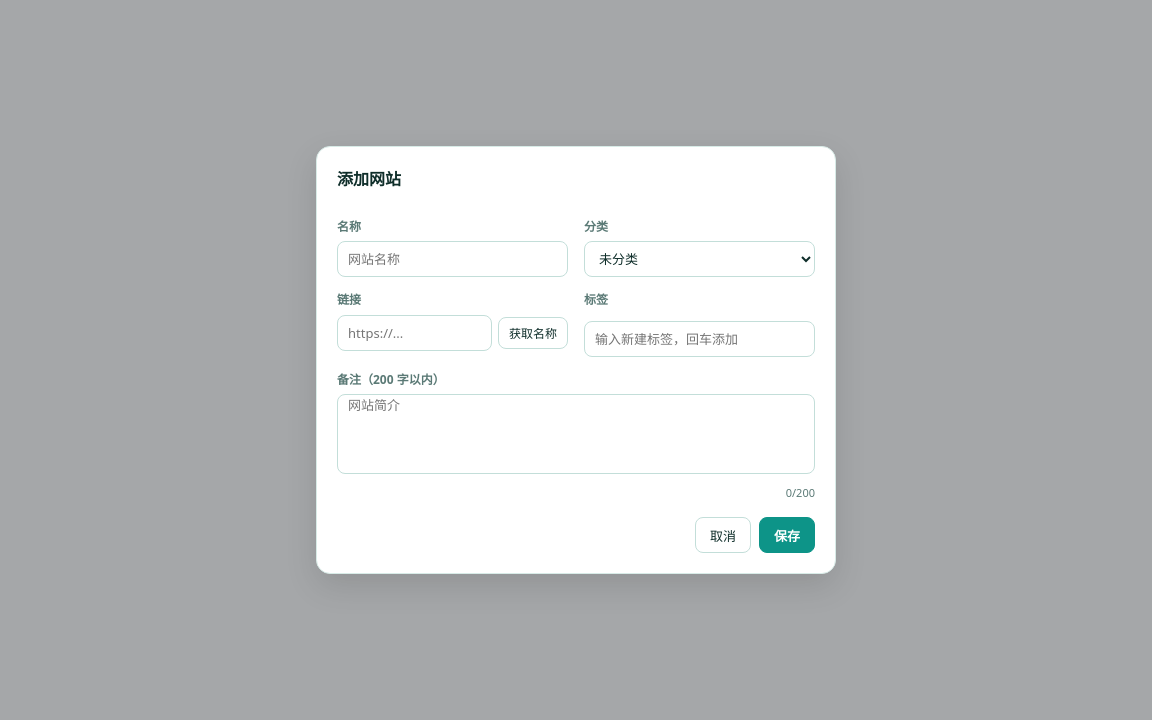
Test: AddEditModal › shows validation error for bad URL
This screenshot has width=1152, height=720.
In the field with placeholder "网站名称": (452,259) [337,241,568,277], type "Test Site"
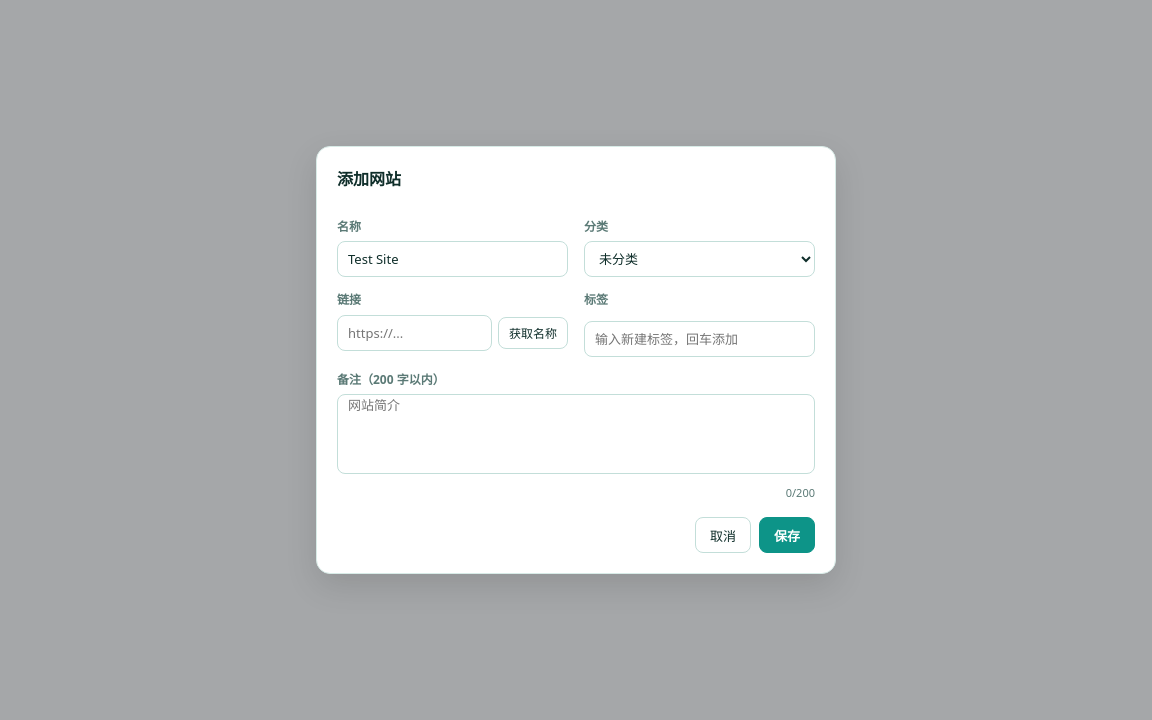
In the field with placeholder "https://...": (414,333) [337,315,492,351], type "not-a-url"
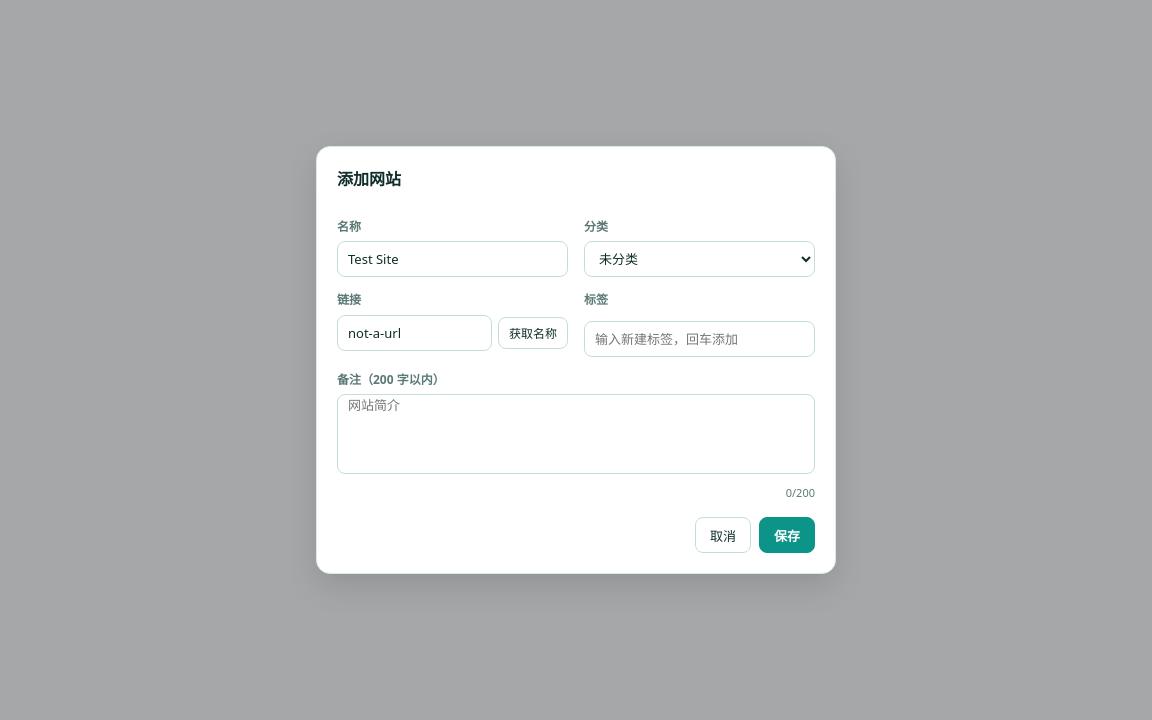
Click the button "保存": (787,535) [759,517,815,553]
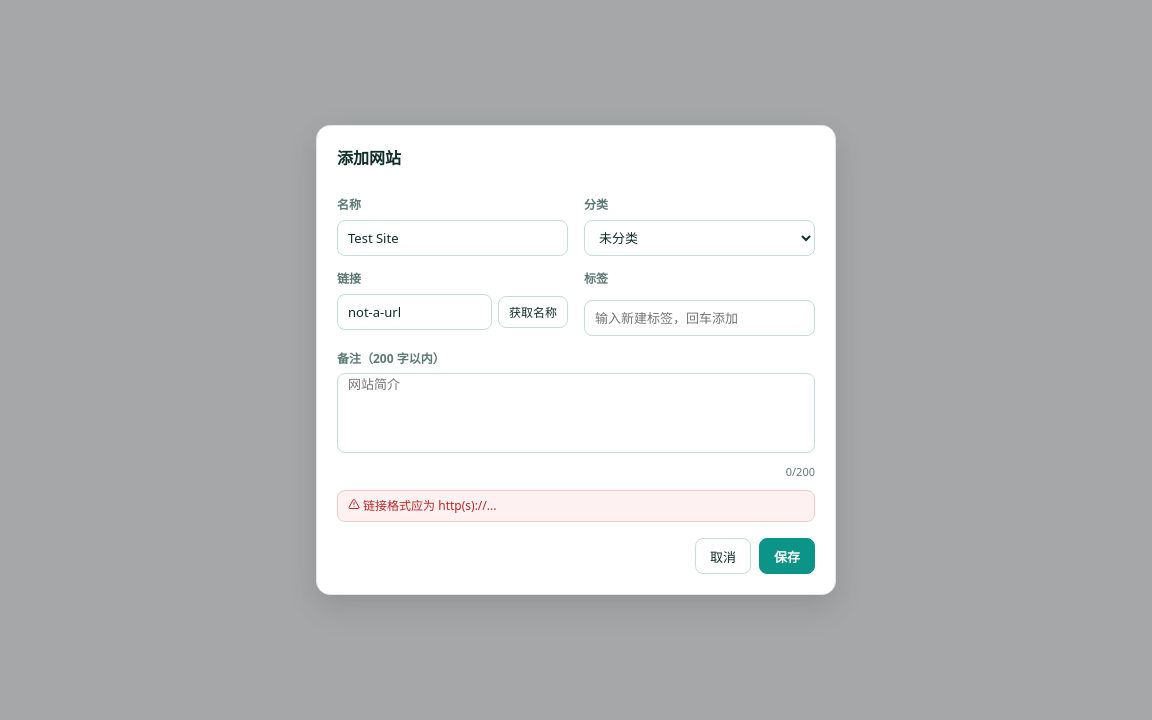
Expected: the text "链接格式" is shown, [360,497,496,514]
